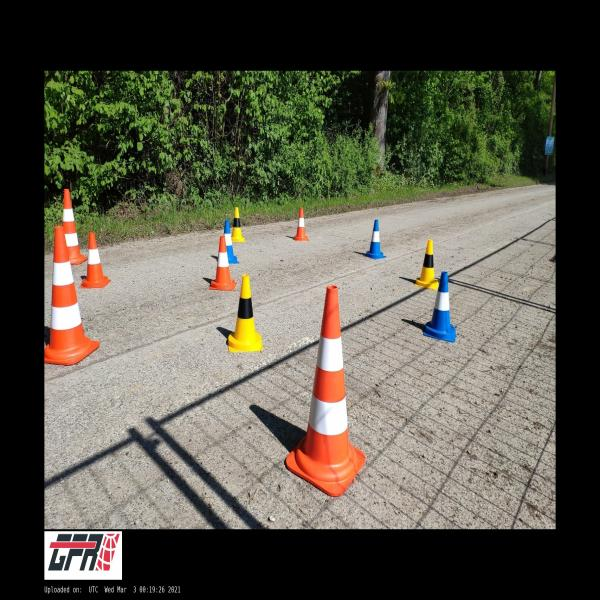blue_cone: (423, 271, 456, 343), (363, 220, 387, 260), (224, 220, 240, 263)
large_orange_cone: (286, 285, 365, 496), (44, 226, 100, 366), (63, 189, 87, 264)
orange_cone: (79, 232, 111, 288), (209, 236, 236, 290), (294, 208, 309, 241)
yellow_cone: (228, 274, 262, 352), (415, 239, 439, 290), (232, 207, 246, 242)
